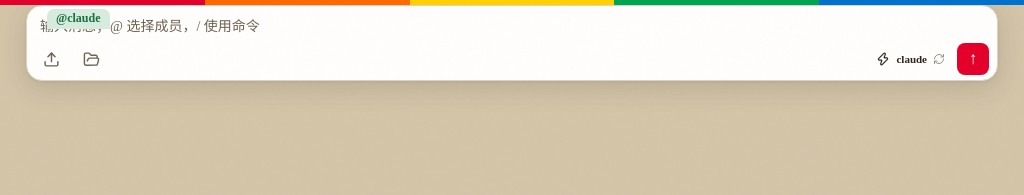
Test: AD-347 describe-gated slash candidate contract › shows only request control words declared by the target Agent
The width and height of the screenshot is (1024, 195).
Type "/" into the field named "消息" at (512, 27), box x1=35 y1=12 x2=989 y2=42
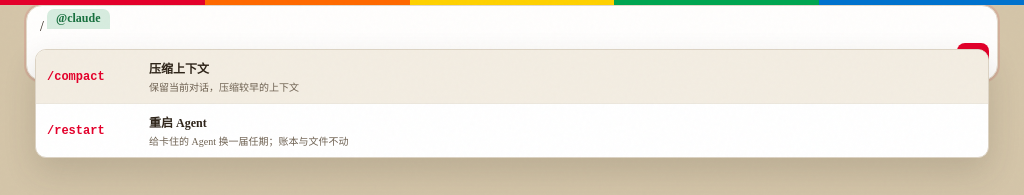
Now the option "/compact 压缩上下文 保留当前对话，压缩较早的上下文" is shown, box x1=36 y1=50 x2=988 y2=103
